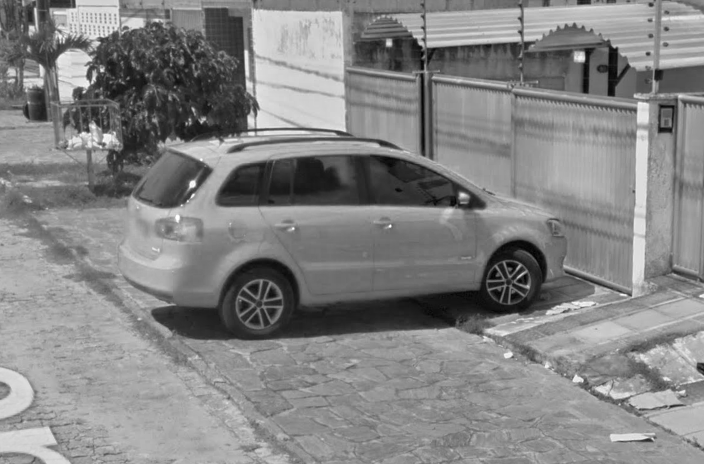car: (115, 124, 572, 342)
